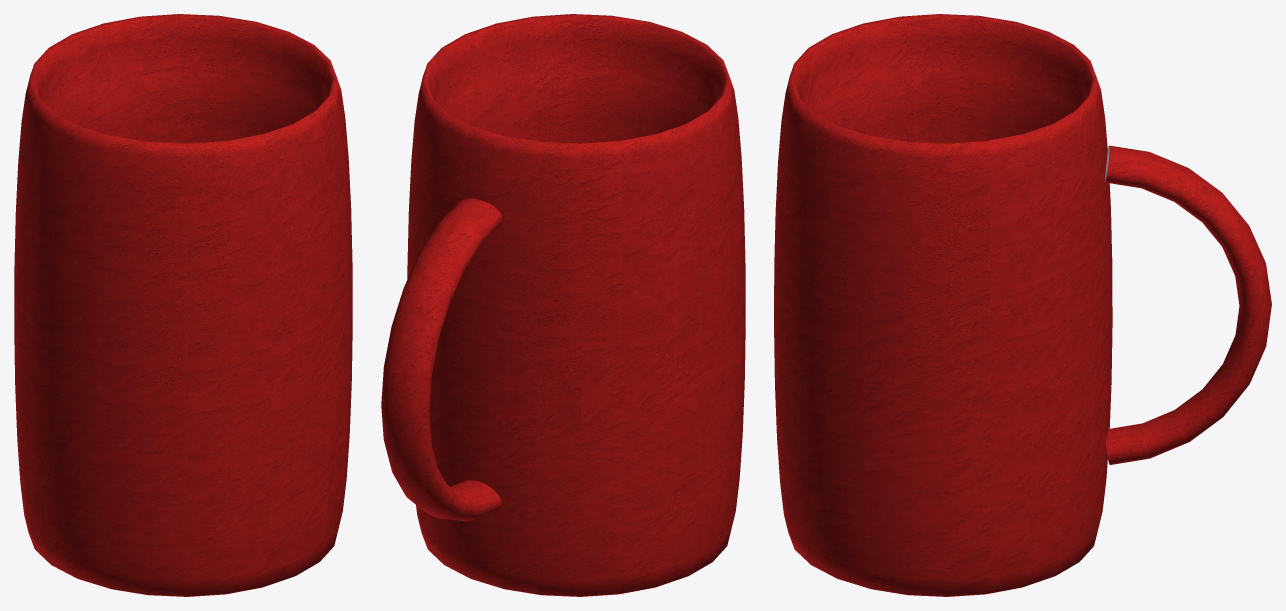
The picture shows the model from 3 angles, left to right: view 1: azimuth 30°, elevation 25°; view 2: azimuth 150°, elevation 25°; view 3: azimuth 270°, elevation 25°; orthographic projection.
Parts seen in each view (by area): view 1: mesh1_mesh1-geometry_1; view 2: mesh1_mesh1-geometry_1, mesh2_mesh2-geometry_1; view 3: mesh1_mesh1-geometry_1, mesh2_mesh2-geometry_1.
Part boxes in pixels (x1=…): mesh1_mesh1-geometry_1: x1=14, y1=14, x2=352, y2=596; mesh1_mesh1-geometry_1: x1=407, y1=14, x2=745, y2=596; mesh2_mesh2-geometry_1: x1=381, y1=198, x2=502, y2=521; mesh1_mesh1-geometry_1: x1=774, y1=14, x2=1112, y2=596; mesh2_mesh2-geometry_1: x1=1105, y1=145, x2=1271, y2=464.
Size of what is drawn, in the model's own units: 0.432 by 0.64 by 0.6354.
Materials: 2 (1 with a texture image).
